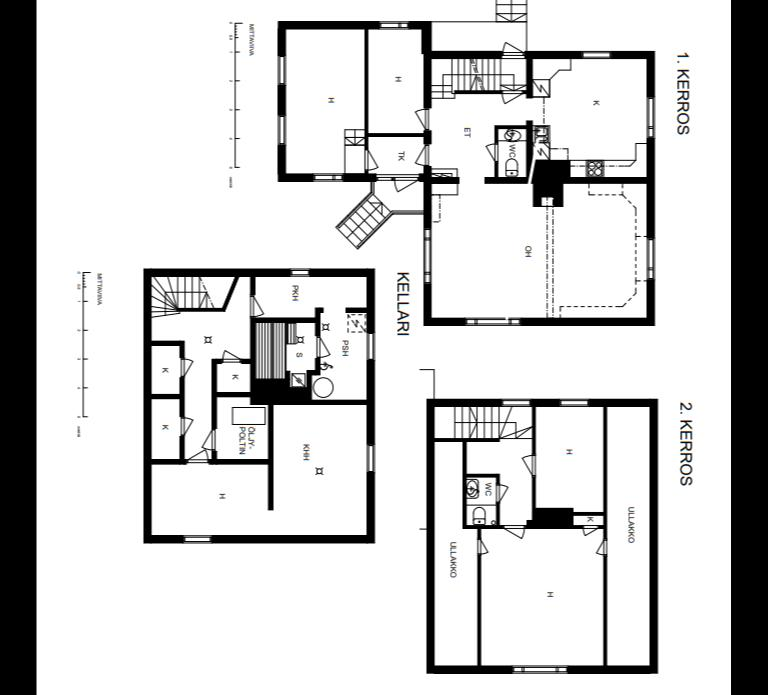door: (184, 444, 212, 466), (498, 520, 528, 540), (314, 330, 335, 358), (410, 105, 434, 129), (412, 138, 432, 166), (391, 172, 420, 191), (360, 146, 380, 172), (176, 352, 196, 377), (500, 86, 526, 105), (519, 451, 540, 474), (244, 294, 264, 318), (500, 40, 524, 58), (220, 346, 242, 364), (202, 427, 218, 450), (182, 408, 196, 434), (484, 140, 501, 161), (594, 533, 610, 554), (476, 532, 491, 554), (497, 480, 511, 500), (581, 523, 600, 537)
window: (422, 222, 436, 285), (462, 313, 522, 327), (272, 106, 290, 148), (644, 232, 658, 282), (644, 92, 658, 140), (274, 48, 290, 90), (364, 435, 380, 476), (178, 531, 214, 548), (374, 16, 414, 31), (574, 46, 614, 60), (309, 169, 349, 183), (364, 327, 380, 361), (286, 262, 314, 280)
